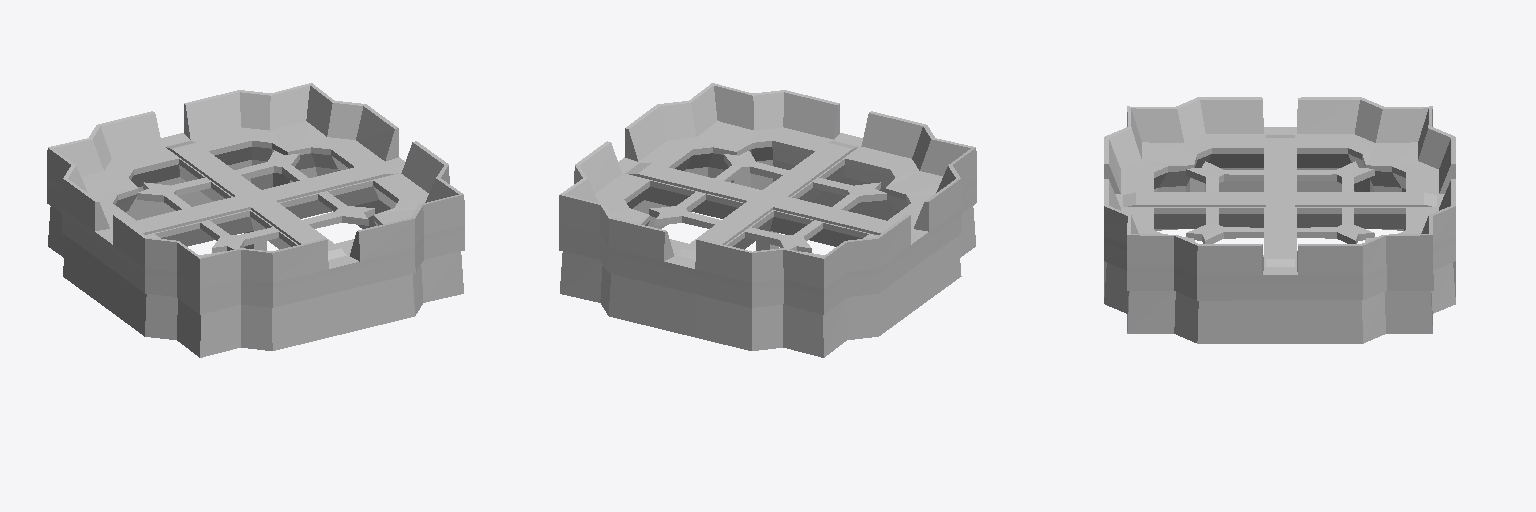
File: PreRubbleCross.obj
The picture shows the model from 3 angles: view 1: azimuth 30°, elevation 25°; view 2: azimuth 150°, elevation 25°; view 3: azimuth 270°, elevation 25°; orthographic projection.
Parts seen in each view (by area): view 1: pCube1; view 2: pCube1; view 3: pCube1.
Boxes of the visible parts, <box> form: pCube1: <box>47,83,464,357</box>; pCube1: <box>559,83,976,357</box>; pCube1: <box>1104,97,1455,343</box>.
Size of the model in its own units: 54.38 by 28.95 by 54.4.